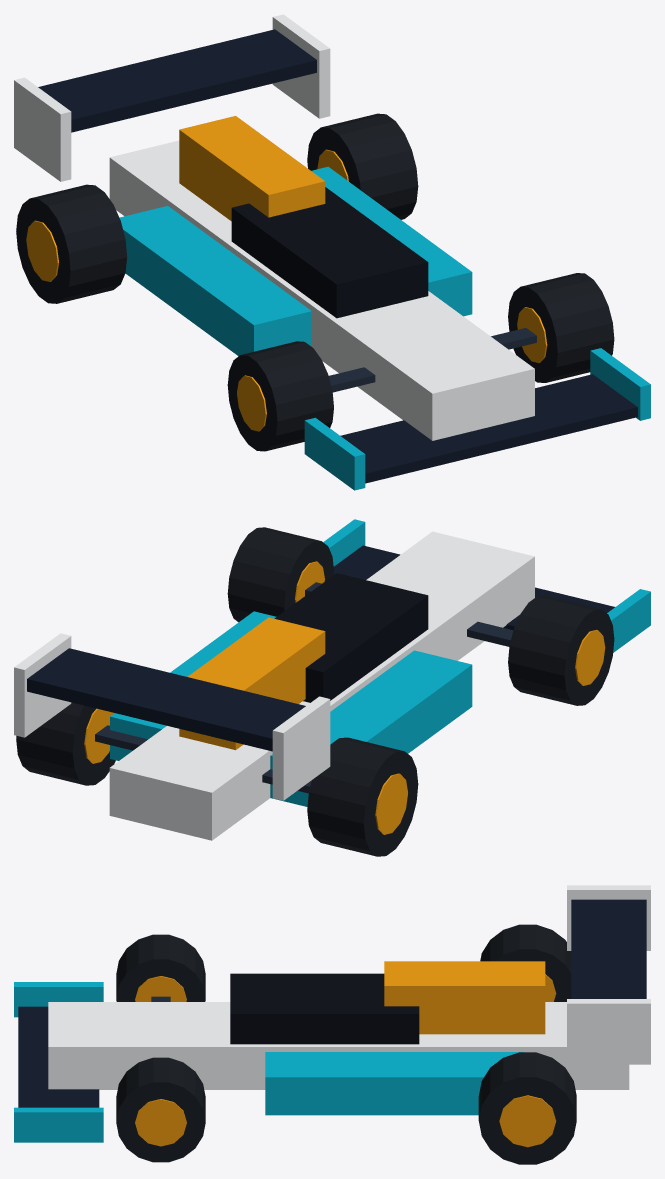
File: cyber-formula.glb
3 views of the same model, one above another, from view 1: azimuth 30°, elevation 25°; view 2: azimuth 150°, elevation 25°; view 3: azimuth 270°, elevation 25° (orthographic). The views are drawn at different scales.
Visible parts, largest first — view 1: RaceCar; view 2: RaceCar; view 3: RaceCar.
Part boxes in pixels (box(x1,y1,x2,y2)): RaceCar: box(14, 14, 650, 490); RaceCar: box(14, 519, 650, 856); RaceCar: box(14, 885, 650, 1164).
Size of the model in its own units: 2.6 by 1.14 by 4.55.
